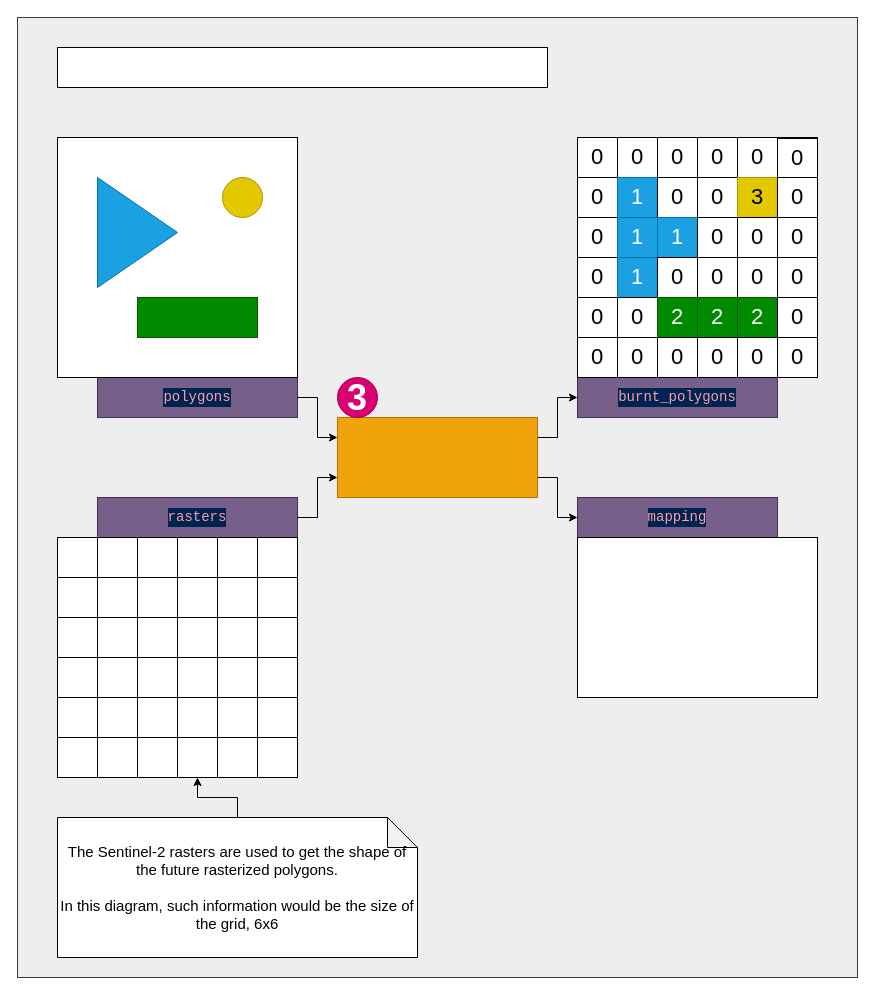
Image size: 875x995. Some labels were removed from this diagram. Each missing label, with the centre of its shape:
"Overview of the RASTERIZE_GEOJSON step" belongs at [302,67].
"RASTERIZE_GEOJSON" belongs at [437,457].
"{ 'FARM': 3, 'FOREST': 2, 'WATER': 1 }" belongs at [697,617].
